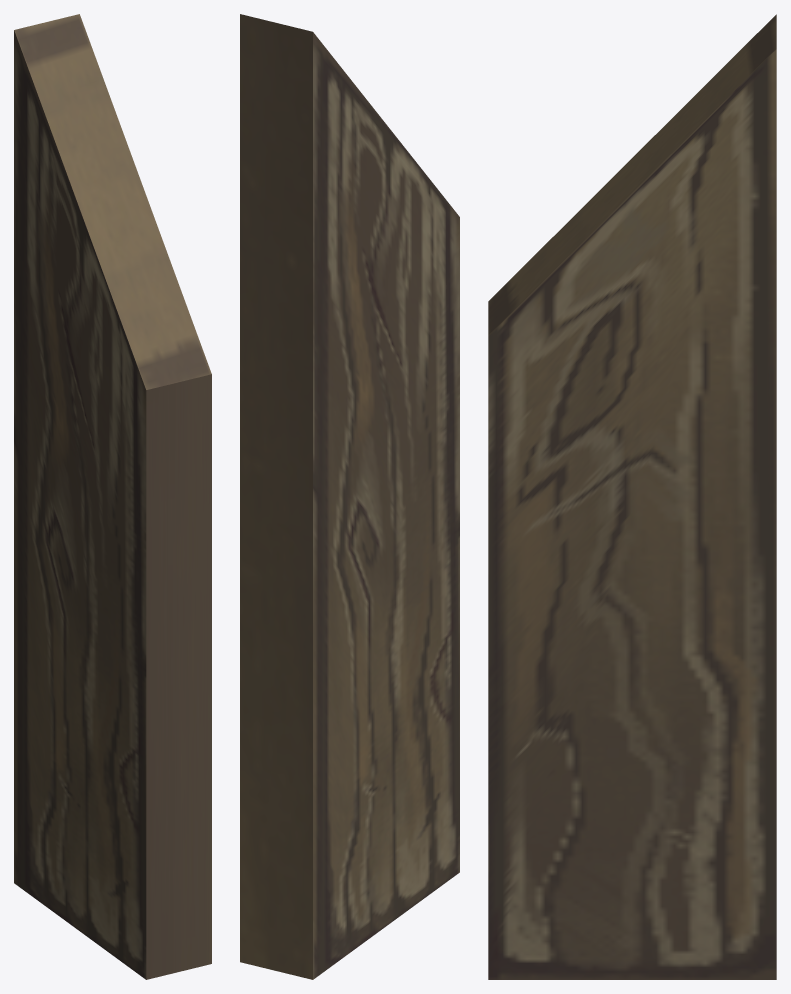
The model's file is prop_town_roof_plank_medium.glb.
3 renders of one model, left to right at view 1: azimuth 30°, elevation 25°; view 2: azimuth 150°, elevation 25°; view 3: azimuth 270°, elevation 25°, orthographic. The views are drawn at different scales.
Visible parts, largest first — view 1: obj_single_plank_roof_medium.001; view 2: obj_single_plank_roof_medium.001; view 3: obj_single_plank_roof_medium.001.
Part boxes in pixels (bbox=[...]): obj_single_plank_roof_medium.001: bbox=[14, 14, 211, 979]; obj_single_plank_roof_medium.001: bbox=[240, 14, 459, 979]; obj_single_plank_roof_medium.001: bbox=[488, 14, 776, 979].
Bounding box in the file's own units: 0.2919 × 3.63 × 1.02.
Materials: 1 (1 with a texture image).
